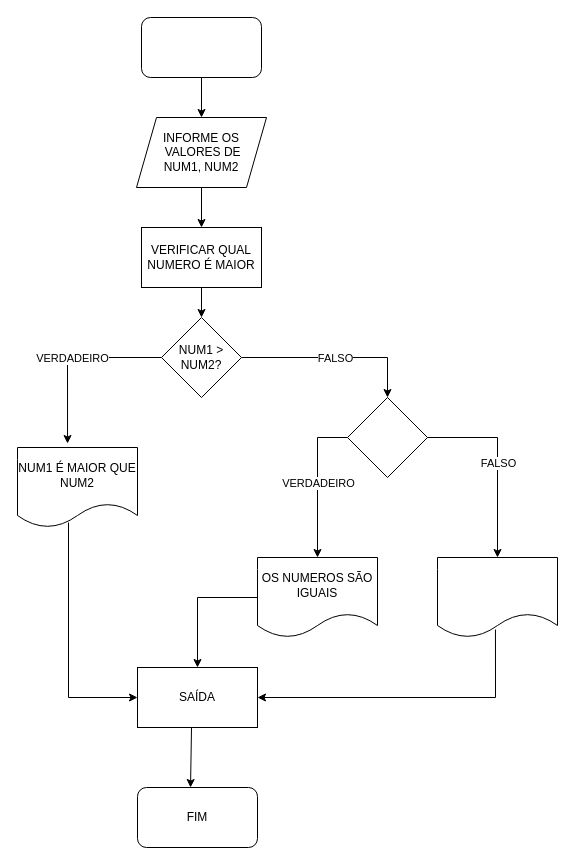
This 575x865 diagram has some shape labels left out. Here are the shapes that lost their labels. From the top down, the centre of each, then its label:
the point at 201,47: INÍCIO
the point at 387,437: NUM1 = NUM2?
the point at 497,597: NUM2 É MAIOR QUE NUM1
